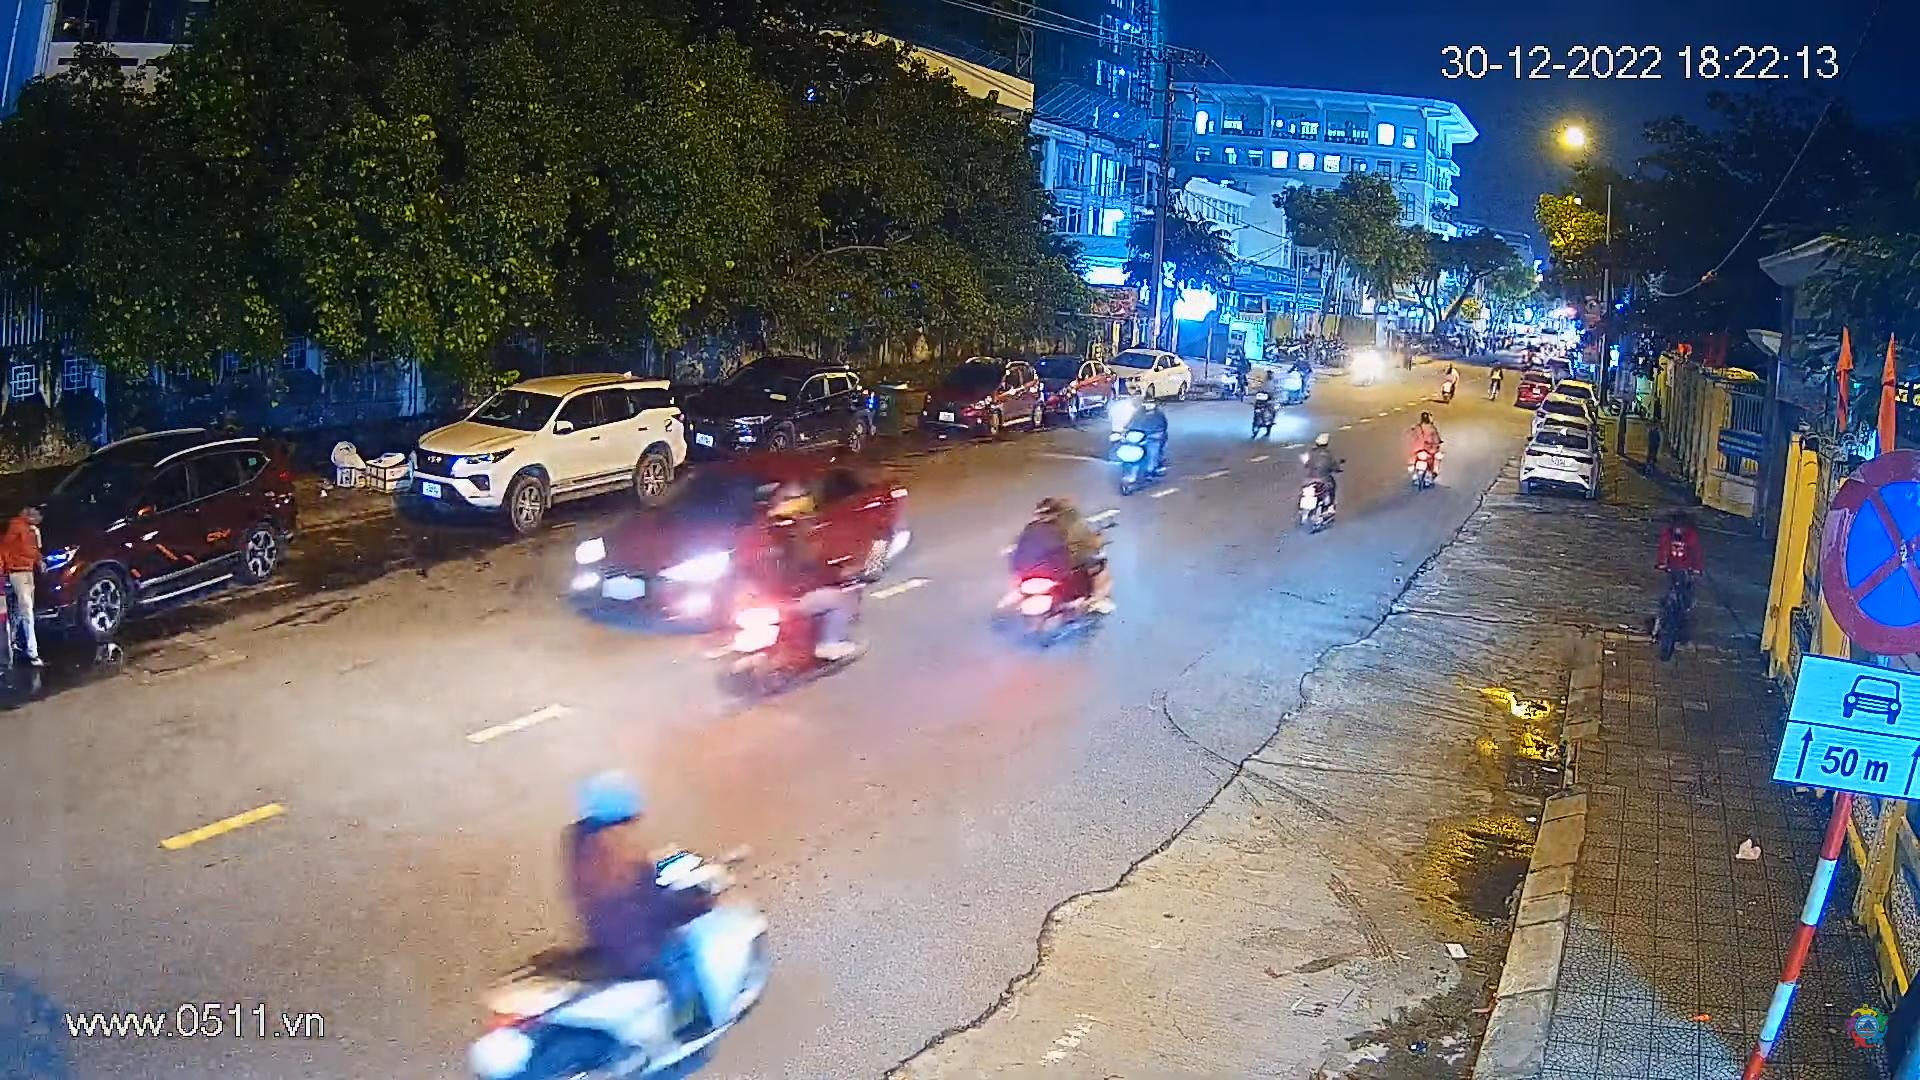bicycle: (1643, 501, 1714, 667)
car: (556, 446, 915, 634), (0, 421, 301, 645), (398, 360, 698, 533), (683, 347, 885, 484), (918, 338, 1054, 450), (1097, 340, 1201, 406), (1035, 351, 1126, 419), (1516, 423, 1600, 495), (1534, 381, 1596, 452), (1513, 372, 1552, 409)
motorcycle: (443, 758, 800, 1080), (719, 479, 870, 716), (1000, 484, 1114, 657), (1287, 430, 1353, 538), (1112, 397, 1176, 504), (1399, 410, 1448, 495), (1249, 367, 1287, 440), (1216, 345, 1254, 405), (1280, 349, 1316, 409), (1439, 357, 1461, 406)
